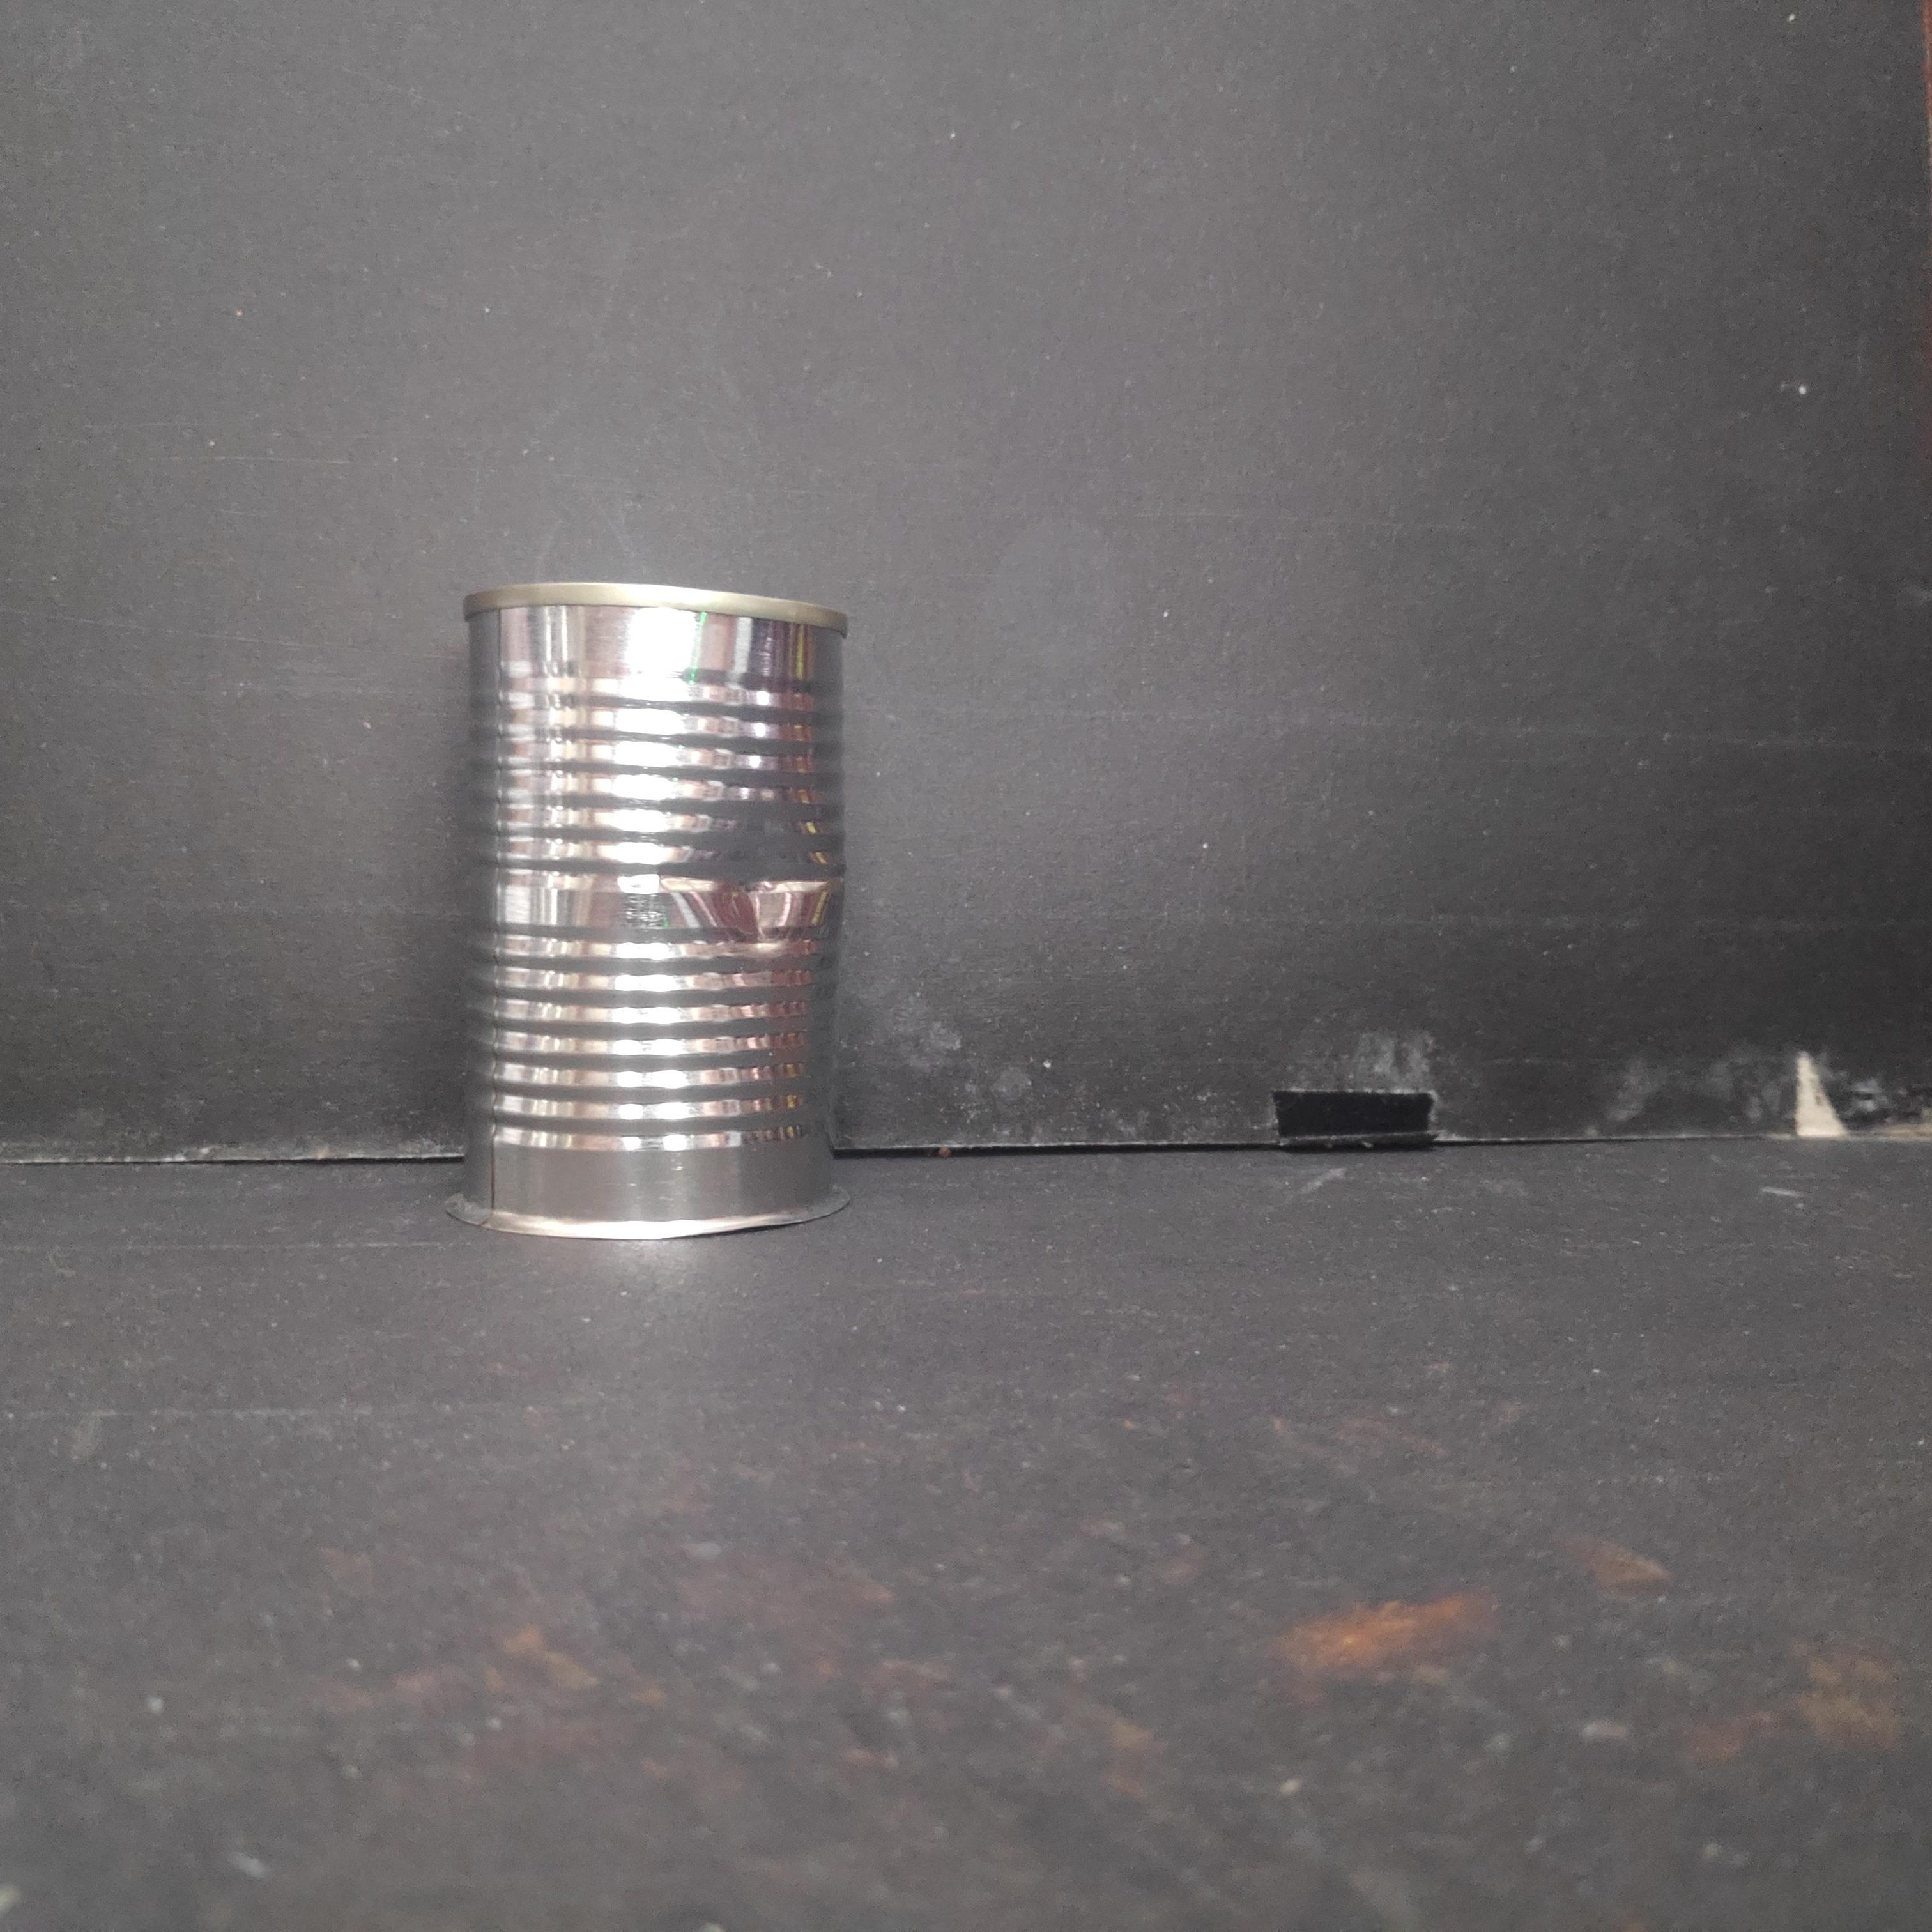Minor Defect: (439, 572, 859, 1249)
